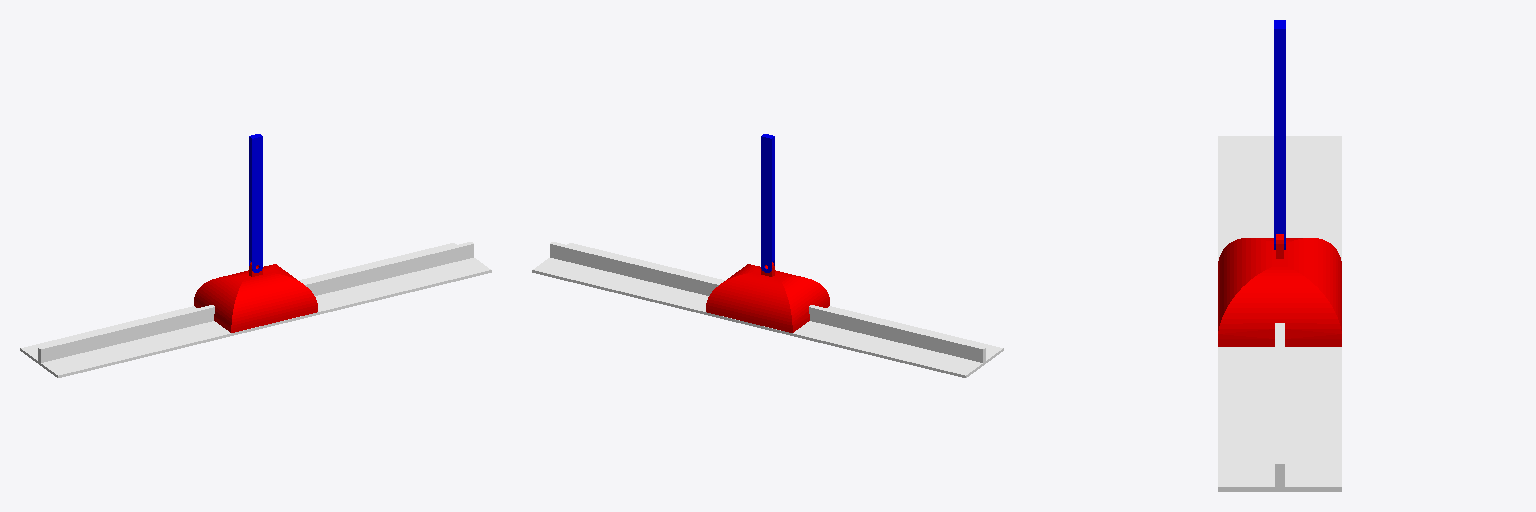
robot.urdf — cart_pole_3d:
<?xml version="1.0" encoding="utf-8"?>
<!-- This URDF was automatically created by SolidWorks to URDF Exporter! Originally created by [author] ([email redacted])
     Commit Version: 1.5.1-0-g916b5db  Build Version: 1.5.7152.31018
     For more information, please see http://wiki.ros.org/sw_urdf_exporter -->
<robot
  name="cart_pole_3d">

  <link
    name="base_link">
    <inertial>
      <origin
        xyz="0 0.016588 -7.0567E-17"
        rpy="0 0 0" />
      <mass
        value="10.2" />
      <inertia
        ixx="0.057887"
        ixy="-2.0329E-17"
        ixz="9.6317E-18"
        iyy="3.4542"
        iyz="-3.7197E-18"
        izz="3.4037" />
    </inertial>
    <visual>
      <origin
        xyz="0 0 0"
        rpy="0 0 0" />
      <geometry>
        <mesh
          filename="package://cart_pole_3d_description/meshes/base_link.STL" />
      </geometry>
      <material
        name="White">
        <color
          rgba="1 1 1 1" />
      </material>
    </visual>
    <collision>
      <origin
        xyz="0 0 0"
        rpy="0 0 0" />
      <geometry>
        <mesh
          filename="package://cart_pole_3d_description/meshes/base_link.STL" />
      </geometry>
    </collision>
  </link>

  <gazebo reference="base_Link">
      <kp>1000</kp>
      <kd>1000</kd>
      <mu1>0.5</mu1>
      <mu2>0.5</mu2>
      <material>Gazebo/White</material>
  </gazebo>

  <!-- Used for fixing robot to Gazebo 'base_link' -->
 <link name="world"/>
 <joint name="fixed" type="fixed">
   <parent link="world"/>
   <child link="base_link"/>
 </joint>

  <link
    name="cart_Link">
    <inertial>
      <origin
        xyz="8.7244E-18 -1.0887E-07 0.004059"
        rpy="0 0 0" />
      <mass
        value="13.204" />
      <inertia
        ixx="0.10629"
        ixy="8.1278E-08"
        ixz="-2.9575E-18"
        iyy="0.17178"
        iyz="4.5022E-07"
        izz="0.2371" />
    </inertial>
    <visual>
      <origin
        xyz="0 0 0"
        rpy="0 0 0" />
      <geometry>
        <mesh
          filename="package://cart_pole_3d_description/meshes/cart_Link.STL" />
      </geometry>
      <material
        name="Red">
        <color
          rgba="1 0 0 1" />
      </material>
    </visual>
    <collision>
      <origin
        xyz="0 0 0"
        rpy="0 0 0" />
      <geometry>
        <mesh
          filename="package://cart_pole_3d_description/meshes/cart_Link.STL" />
      </geometry>
    </collision>
  </link>

  <joint
    name="base_cart_joint"
    type="prismatic">
    <origin
      xyz="0 0 0.072"
      rpy="0 0 0" />
    <parent
      link="base_link" />
    <child
      link="cart_Link" />
    <axis
      xyz="1 0 0" />
    <limit
      lower= "-2"
      upper="2"
      effort="2000000"
      velocity="100000" />
  </joint>

  <gazebo reference="cart_Link">
      <kp>1000</kp>
      <kd>1000</kd>
      <mu1>0.5</mu1>
      <mu2>0.5</mu2>
      <material>Gazebo/Red</material>
  </gazebo>

  <link
    name="pole_Link">
    <inertial>
      <origin
        xyz="4.3315E-18 1.3127E-16 0.29235"
        rpy="0 0 0" />
      <mass
        value="0.83758" />
      <inertia
        ixx="0.022017"
        ixy="1.6996E-20"
        ixz="-3.6264E-19"
        iyy="0.022127"
        iyz="-1.0739E-17"
        izz="0.00023906" />
    </inertial>
    <visual>
      <origin
        xyz="0 0 0"
        rpy="0 0 0" />
      <geometry>
        <mesh
          filename="package://cart_pole_3d_description/meshes/pole_Link.STL" />
      </geometry>
      <material
        name="Blue">
        <color
          rgba="0 0 1 1" />
      </material>
    </visual>
    <collision>
      <origin
        xyz="0 0 0"
        rpy="0 0 0" />
      <geometry>
        <mesh
          filename="package://cart_pole_3d_description/meshes/pole_Link.STL" />
      </geometry>
    </collision>
  </link>

  <gazebo reference="pole_Link">
      <kp>1000.0</kp>
      <kd>1000.0</kd>
      <mu1>0.5</mu1>
      <mu2>0.5</mu2>
      <material>Gazebo/Blue</material>
  </gazebo>

  <joint name="cart_pole_joint" type="revolute">
    <origin
      xyz="0 0 0.1305"
      rpy="0 0 0" />
    <parent link="cart_Link" />
    <child link="pole_Link" />
    <axis xyz="0 -1 0" />
    <limit
      lower="-1"
      upper="1"
      effort="1"
      velocity="100" />
  </joint>
  <!-- <link
    name="top_weight_Link">
    <inertial>
      <origin
        xyz="5.0699E-18 0 -0.00030865"
        rpy="0 0 0" />
      <mass
        value="0.3739" />
      <inertia
        ixx="0.00029872"
        ixy="0"
        ixz="0"
        iyy="0.00029872"
        iyz="0"
        izz="0.00029872" />
    </inertial>
    <visual>
      <origin
        xyz="0 0 0"
        rpy="0 0 0" />
      <geometry>
        <mesh
          filename="package://cart_pole_3d_description/meshes/top_weight_Link.STL" />
      </geometry>
      <material
        name="Green">
        <color
          rgba="0 1 0 1" />
      </material>
    </visual>
    <collision>
      <origin
        xyz="0 0 0"
        rpy="0 0 0" />
      <geometry>
        <mesh
          filename="package://cart_pole_3d_description/meshes/top_weight_Link.STL" />
      </geometry>
    </collision>
  </link>

  <gazebo reference="top_weight_Link">
      <kp>10</kp>
      <kd>10.0</kd>
      <mu1>1</mu1>
      <mu2>1</mu2>
      <material>Gazebo/Green</material>
  </gazebo>

  <joint
    name="pole_ball_joint"
    type="fixed">
    <origin
      xyz="0 0 0.61694"
      rpy="0 0 0" />
    <parent
      link="pole_Link" />
    <child
      link="top_weight_Link" />
    <axis
      xyz="0 0 0" />
  </joint> -->


  <gazebo>
  <plugin name="p3d_base_controller" filename="libgazebo_ros_p3d.so">
      <robotNamespace>/cart_pole_3d</robotNamespace>
      <alwaysOn>true</alwaysOn>
      <updateRate>50.0</updateRate>
      <bodyName>cart_Link</bodyName>
      <topicName>odom</topicName>
      <gaussianNoise>0.01</gaussianNoise>
      <frameName>world</frameName>
      <xyzOffsets>0 0 0</xyzOffsets>
      <rpyOffsets>0 0 0</rpyOffsets>
  </plugin>
</gazebo>

  <gazebo>
    <plugin name="imu_plugin" filename="libgazebo_ros_imu.so">
      <robotNamespace>/cart_pole_3d</robotNamespace>
        <alwaysOn>true</alwaysOn>
        <bodyName>pole_Link</bodyName>
        <topicName>imu</topicName>
        <serviceName>imu_service</serviceName>
        <gaussianNoise>0.8</gaussianNoise>
        <updateRate>50.0</updateRate>
    </plugin>
  </gazebo>

  <gazebo>
  <plugin name="gazebo_ros_control" filename="libgazebo_ros_control.so">
      <robotNamespace>/cart_pole_3d</robotNamespace>
  </plugin>
  </gazebo>

  <transmission name="cart_pole_joint_transmission">
    <type>transmission_interface/SimpleTransmission</type>
    <joint name="cart_pole_joint">
      <hardwareInterface>hardware_interface/EffortJointInterface</hardwareInterface>
    </joint>
    <actuator name="cart_pole_joint_motor">
      <hardwareInterface>hardware_interface/EffortJointInterface</hardwareInterface>
      <mechanicalReduction>1</mechanicalReduction>
    </actuator>
  </transmission>

  <transmission name="linear_cart_joint_transmission">
    <type>transmission_interface/SimpleTransmission</type>
    <joint name="base_cart_joint">
      <hardwareInterface>hardware_interface/EffortJointInterface</hardwareInterface>
    </joint>
    <actuator name="linear_cart_joint_motor">
      <hardwareInterface>hardware_interface/EffortJointInterface</hardwareInterface>
      <mechanicalReduction>1</mechanicalReduction>
    </actuator>
  </transmission>



</robot>

--- Render facts (derived) ---
3 views of the same robot in one strip: view 1: azimuth 30°, elevation 25°; view 2: azimuth 150°, elevation 25°; view 3: azimuth 270°, elevation 25° (orthographic).
Robot: cart_pole_3d — 4 links, 3 joints (1 revolute, 1 prismatic, 1 fixed); root link world; default pose: every joint at zero.
Links seen in each view (by area): view 1: base_link, cart_Link, pole_Link; view 2: base_link, cart_Link, pole_Link; view 3: base_link, cart_Link, pole_Link.
Boxes of the visible links, x1,y1,x2,y2 form: base_link: (20,242,491,377); cart_Link: (194,262,317,332); pole_Link: (249,134,262,272); base_link: (532,242,1003,377); cart_Link: (706,262,829,332); pole_Link: (761,134,774,272); base_link: (1218,136,1341,491); cart_Link: (1218,234,1341,346); pole_Link: (1274,20,1285,249).
Bounding box of the posed robot: 2 × 0.3 × 0.7744 m (x, y, z).
Meshes: 3 distinct files referenced, 3 mesh visuals loaded (3 binary STL).